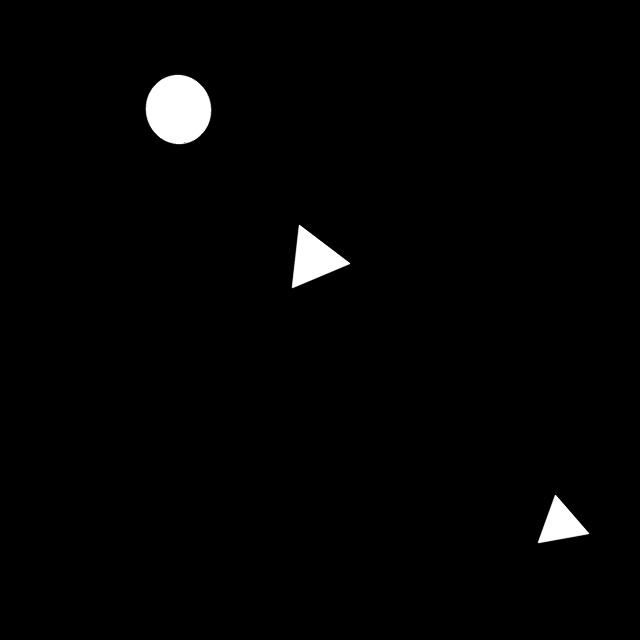Circle: (135, 64, 218, 152)
Triangle: (276, 213, 359, 300), (526, 487, 595, 550)
